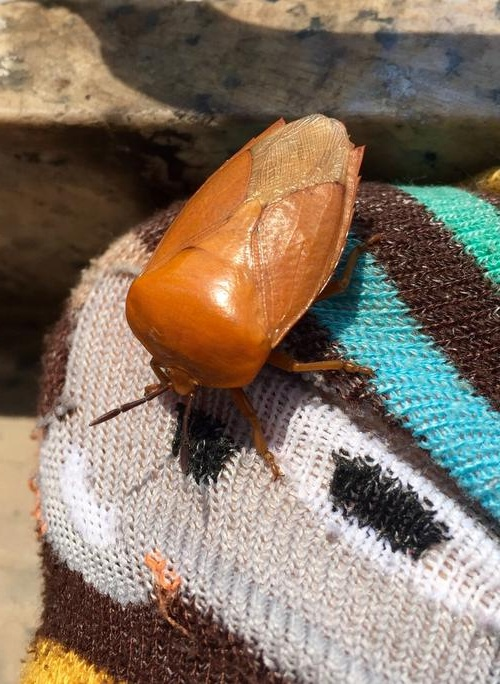Stink_Bug: (128, 97, 372, 425)
